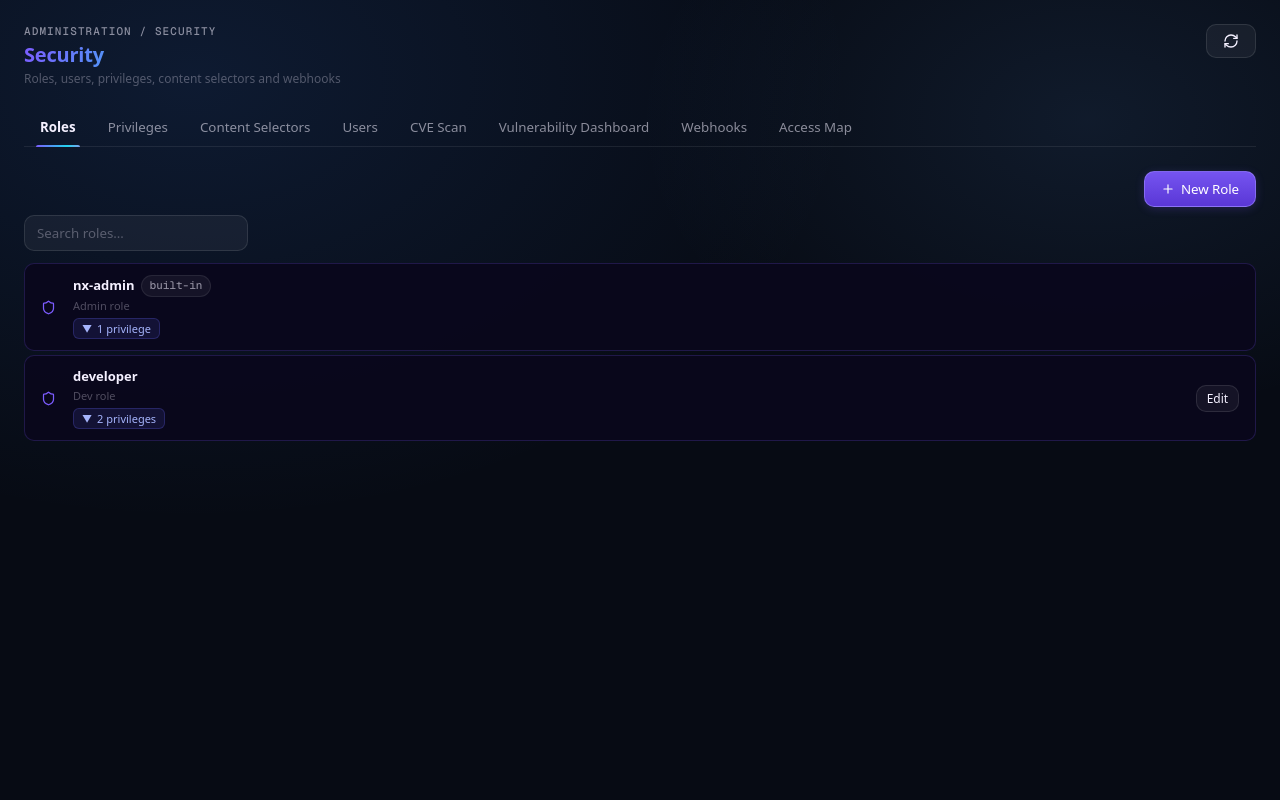
Test: SecurityPage › shows an error when role creation fails
The width and height of the screenshot is (1280, 800).
Expected: the text "nx-admin" is shown, [73, 276, 135, 296]
Click the button "New Role". click: (1200, 189)
box: [1144, 171, 1256, 207]
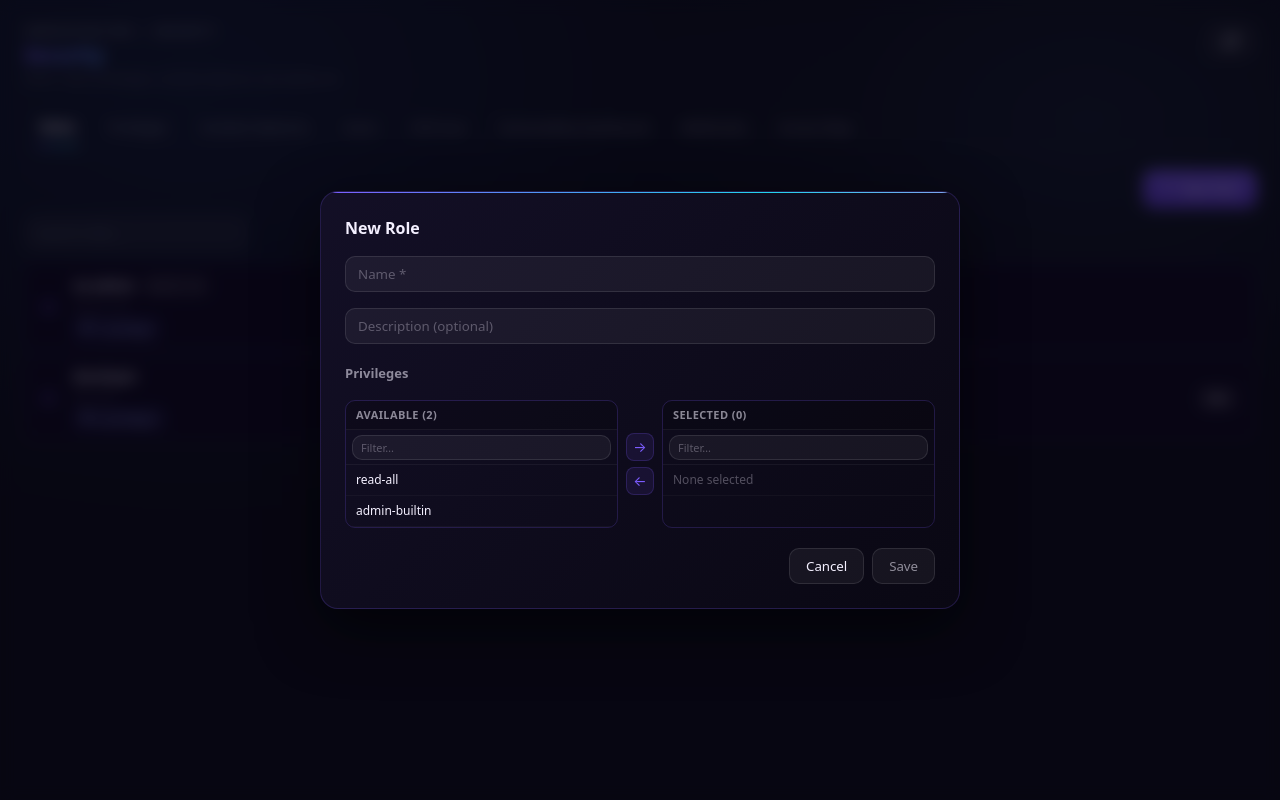
Type "dup" into the field with placeholder "Name *". click: (640, 274)
box: [345, 256, 935, 292]
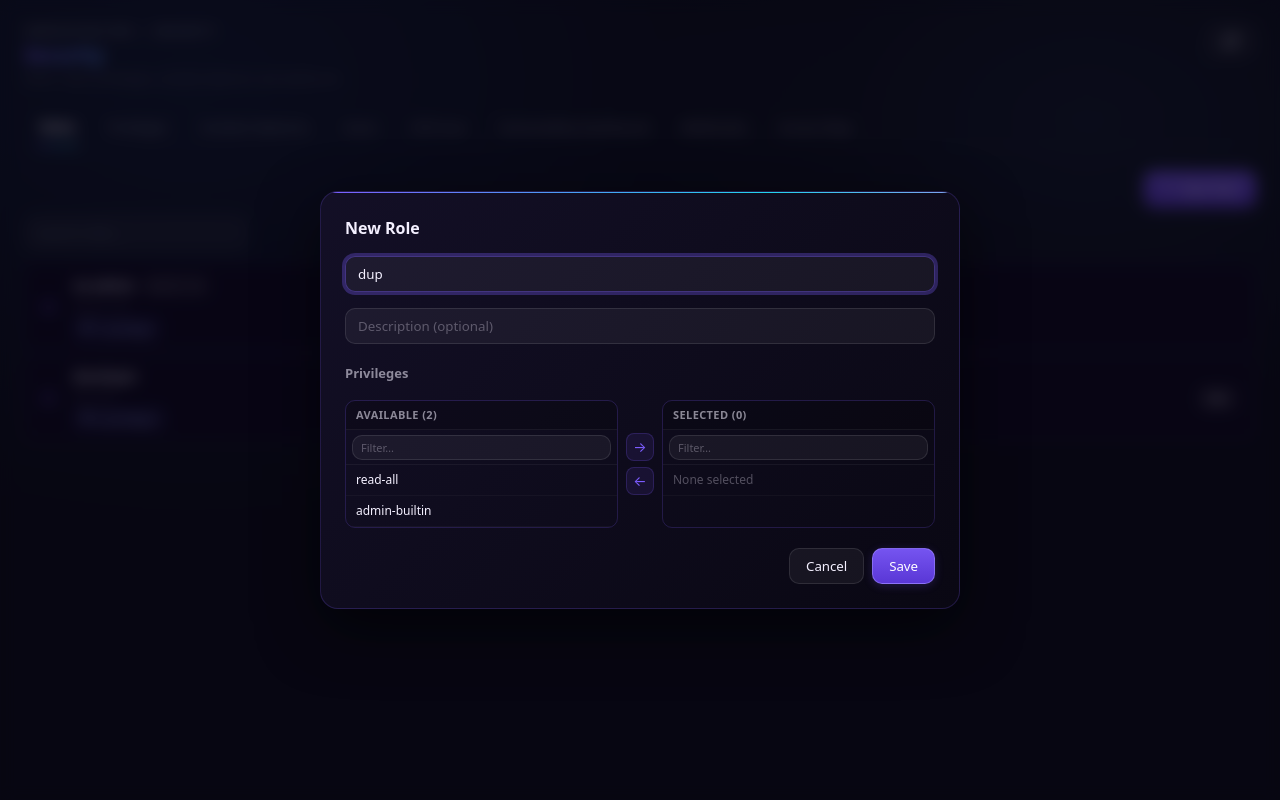
Click the button "Save". click: (904, 566)
box: [872, 548, 935, 584]
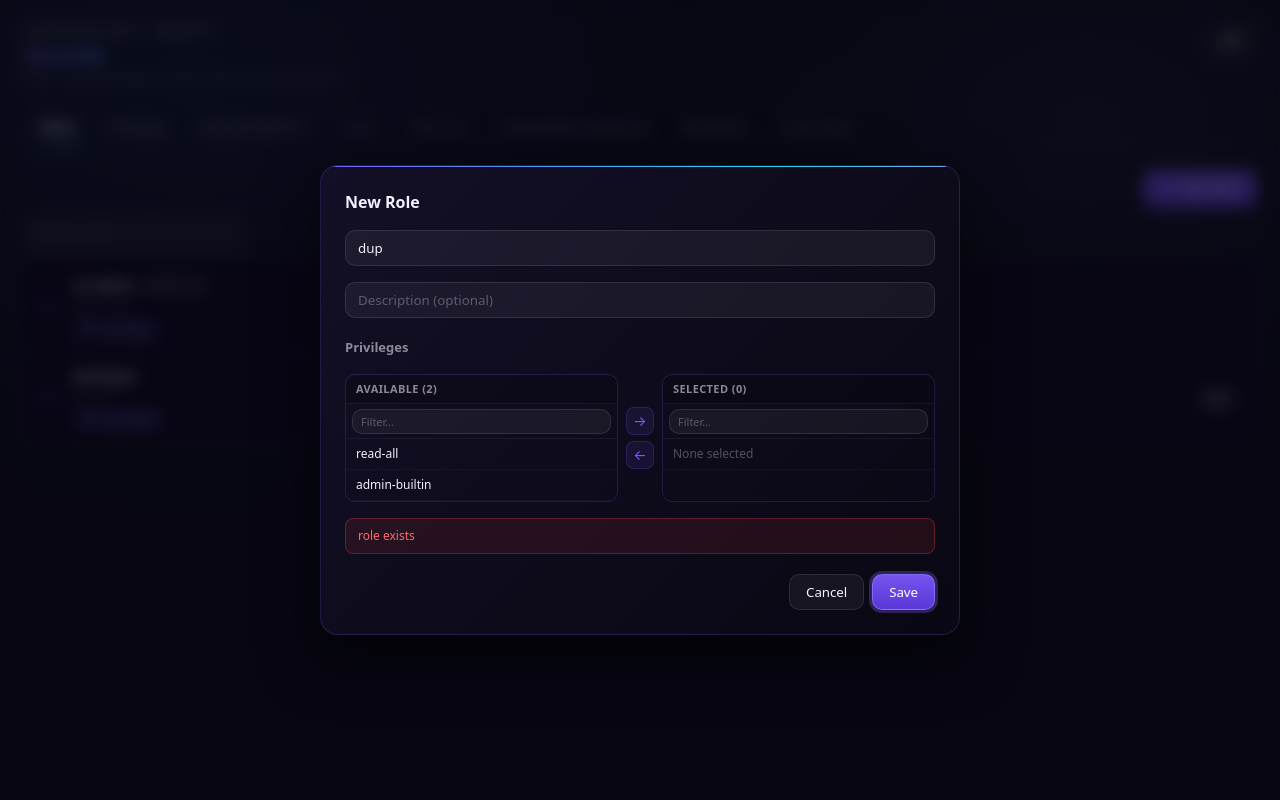
Now the text "role exists" is shown, box [345, 518, 935, 554]
